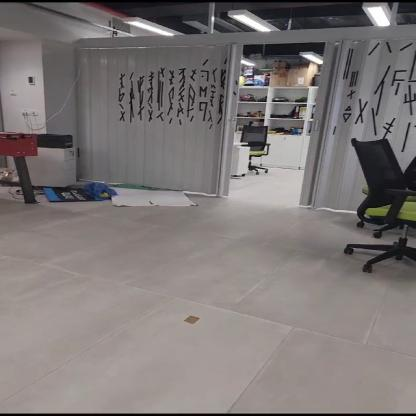open: (226, 46, 323, 192)
